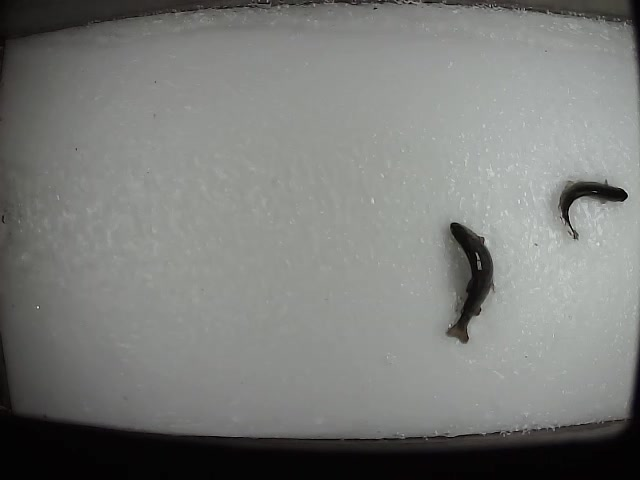fish: (444, 218, 497, 343), (552, 177, 630, 242)
